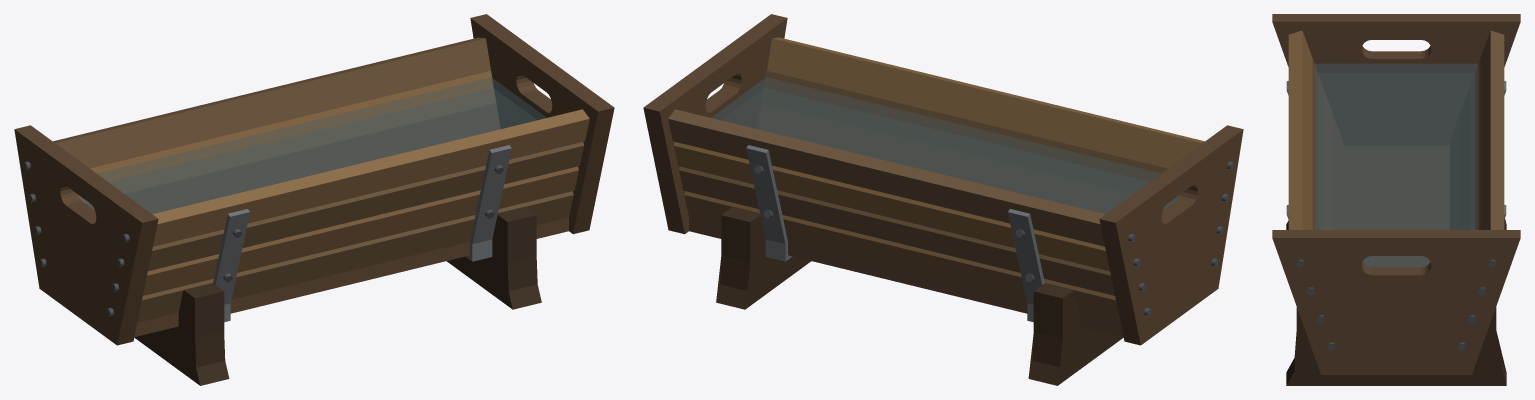
File: SM_LPD_Crate_TroughWood_01.fbx
3 renders of one model, left to right at view 1: azimuth 30°, elevation 25°; view 2: azimuth 150°, elevation 25°; view 3: azimuth 270°, elevation 25°, orthographic. The views are drawn at different scales.
Parts seen in each view (by area): view 1: SM_LPD_Crate_TroughWood_01; view 2: SM_LPD_Crate_TroughWood_01; view 3: SM_LPD_Crate_TroughWood_01.
Part boxes in pixels (bbox=[...]): SM_LPD_Crate_TroughWood_01: bbox=[14, 14, 614, 385]; SM_LPD_Crate_TroughWood_01: bbox=[643, 14, 1243, 385]; SM_LPD_Crate_TroughWood_01: bbox=[1272, 14, 1520, 385].
Bounding box in the file's own units: 1.32 × 0.485 × 0.61.
